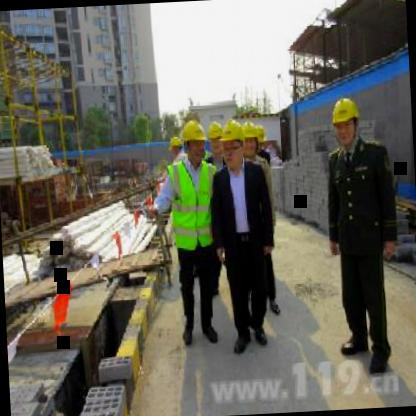helmet: (327, 95, 361, 148), (182, 115, 210, 164), (223, 123, 247, 165), (206, 120, 224, 160), (242, 118, 260, 157)
